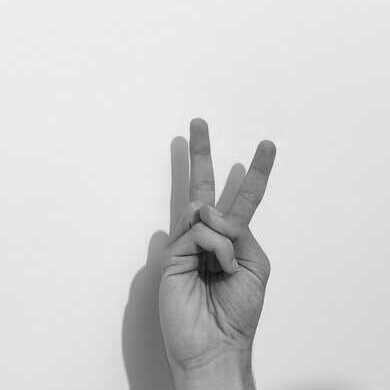V: (158, 118, 276, 373)
